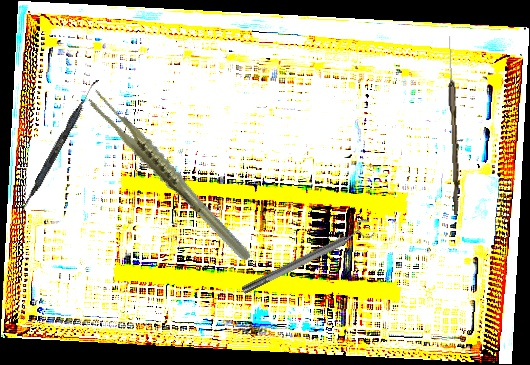Fixation Ring: (237, 216, 377, 300)
Spatula Surgical: (19, 76, 99, 215)
Surgical Spoon: (444, 35, 463, 215)
Tissue Forceps: (84, 66, 254, 287)
